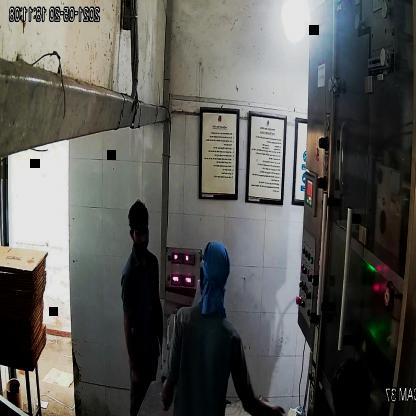no_goggles: (132, 220, 153, 242)
